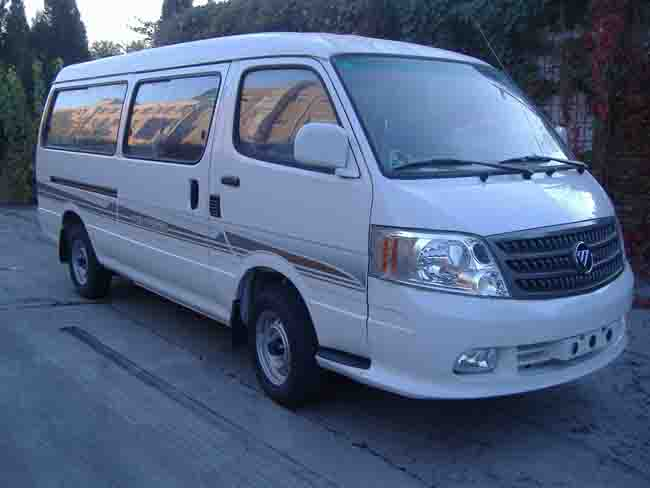midcar: (34, 35, 633, 414)
